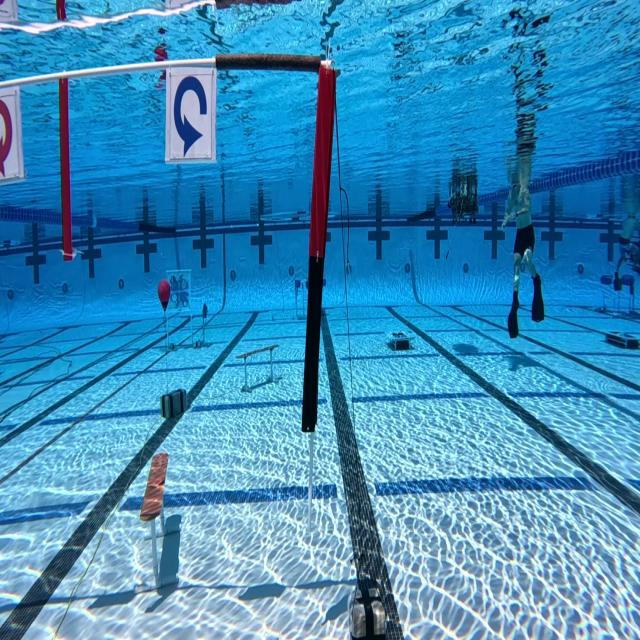blue_side: (167, 68, 212, 165)
red_side: (3, 84, 18, 185)
